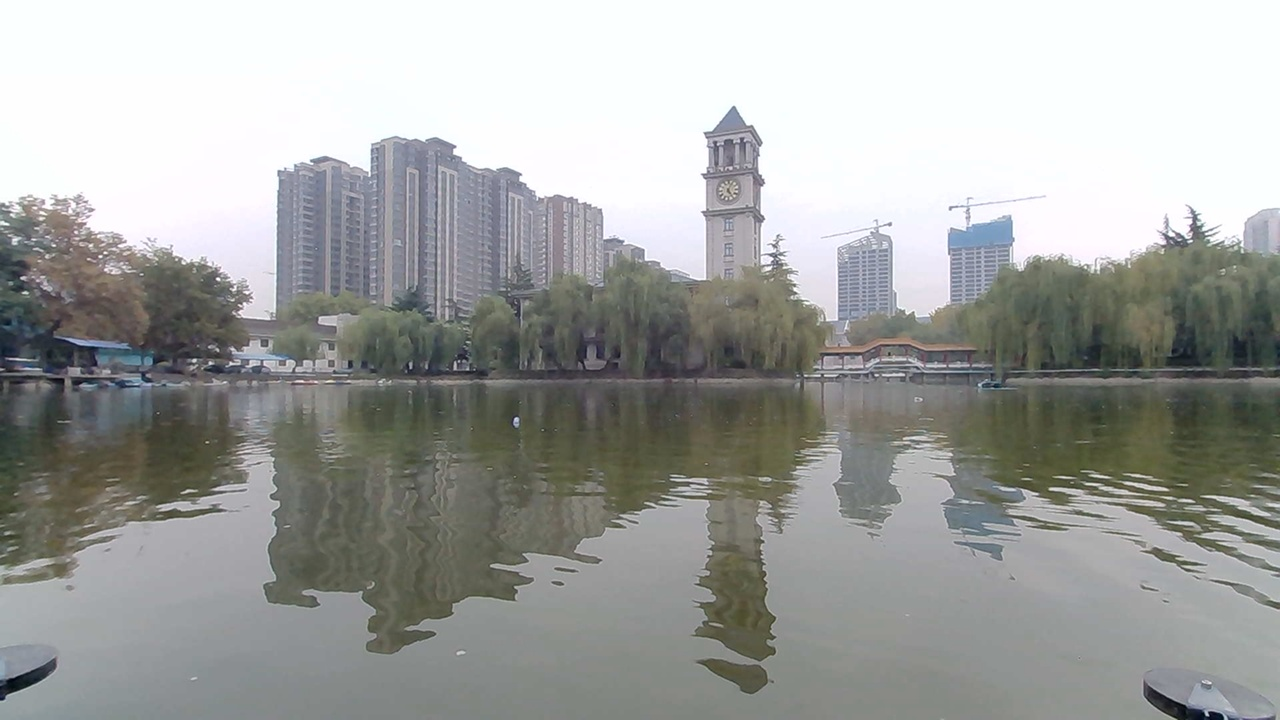bottle: (484, 401, 536, 433), (903, 389, 935, 408)
